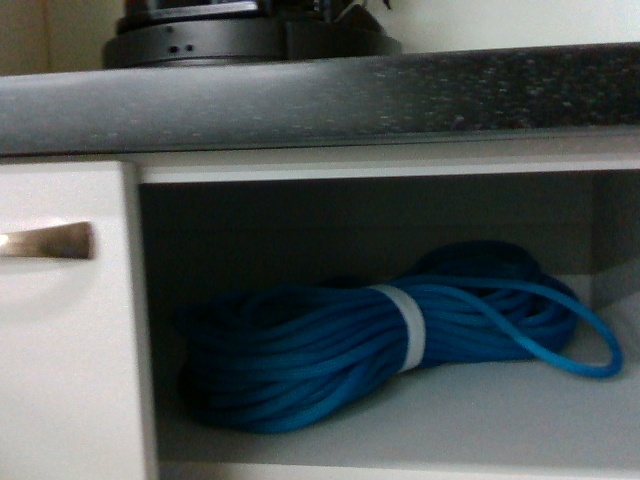rope: (186, 244, 628, 426)
